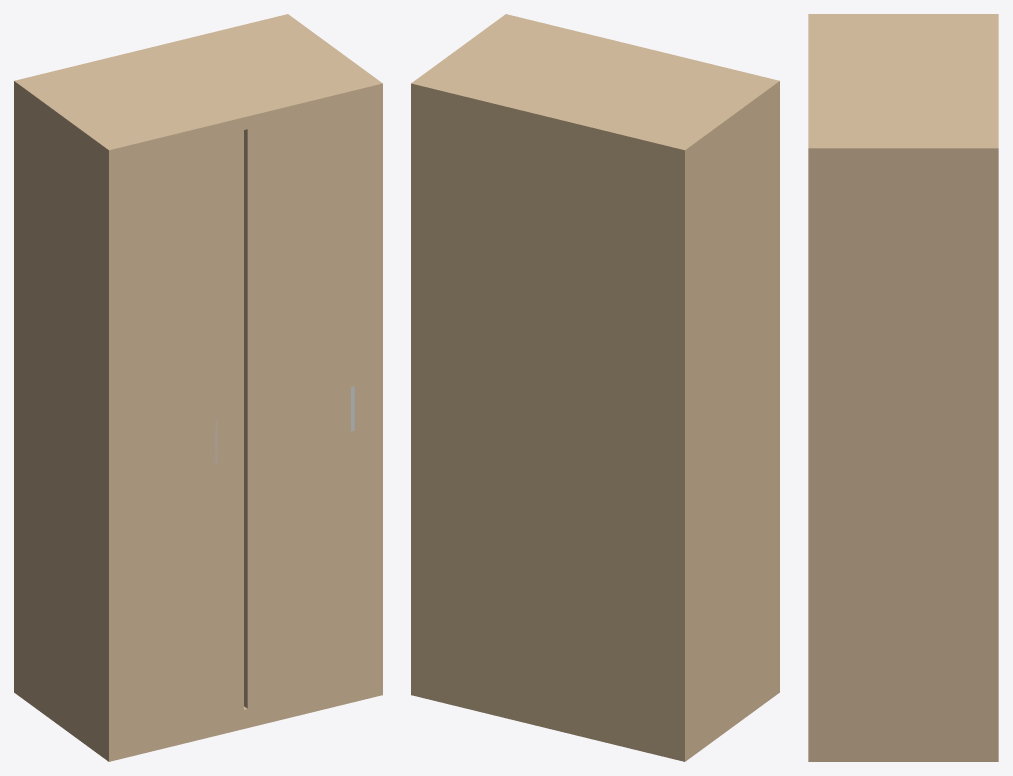
File: s-bed8-o02-e49b98e11c.glb
The picture shows the model from 3 angles, left to right: view 1: azimuth 30°, elevation 25°; view 2: azimuth 150°, elevation 25°; view 3: azimuth 270°, elevation 25°; orthographic projection.
Parts seen in each view (by area): view 1: door-panel-1, door-panel-2, part-03, part-02, part-04, part-01, part-00; view 2: part-00, part-03, part-02, part-04, part-01; view 3: part-04, part-02, part-00, part-01.
Part boxes in pixels (box(x1,y1,x2,y2)): door-panel-1: box(110, 130, 243, 748); door-panel-2: box(244, 99, 370, 708); part-03: box(14, 83, 120, 761); part-02: box(14, 14, 382, 162); part-04: box(277, 14, 382, 696); part-01: box(14, 673, 382, 761); part-00: box(14, 14, 293, 696); part-00: box(411, 80, 691, 761); part-03: box(673, 78, 779, 753); part-02: box(411, 14, 779, 162); part-04: box(411, 14, 517, 696); part-01: box(411, 673, 779, 761); part-04: box(808, 142, 998, 742); part-02: box(808, 14, 998, 160); part-00: box(986, 14, 998, 761); part-01: box(808, 742, 998, 761).
Bounding box in the file's own units: 0.9 × 1.92 × 0.54.
